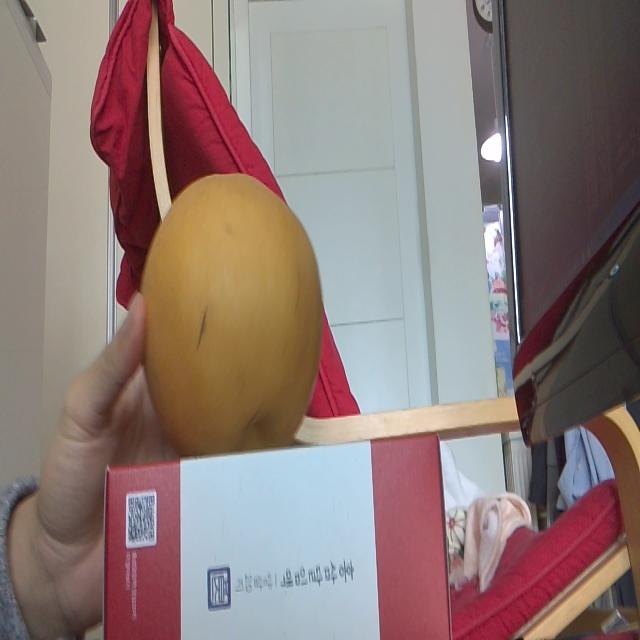pear: (140, 172, 328, 458)
